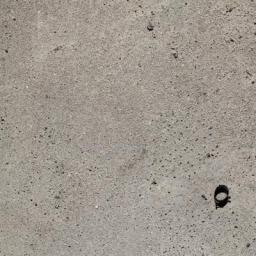FOD: (211, 182, 236, 212)
